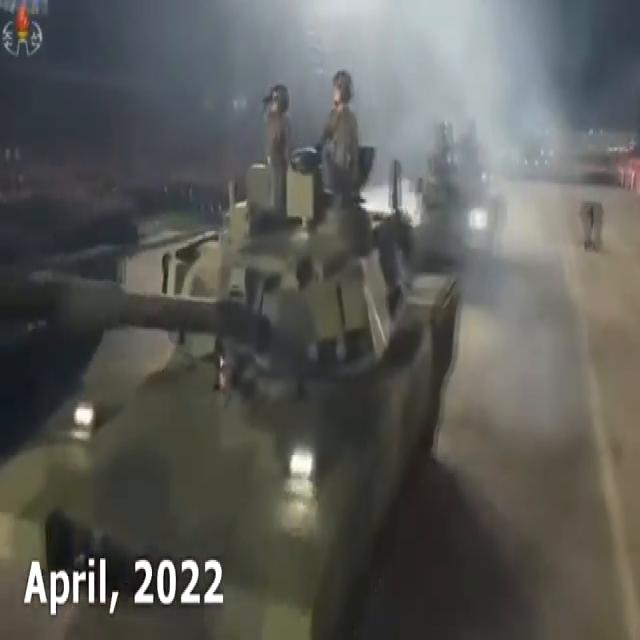north tank: (0, 117, 473, 638)
